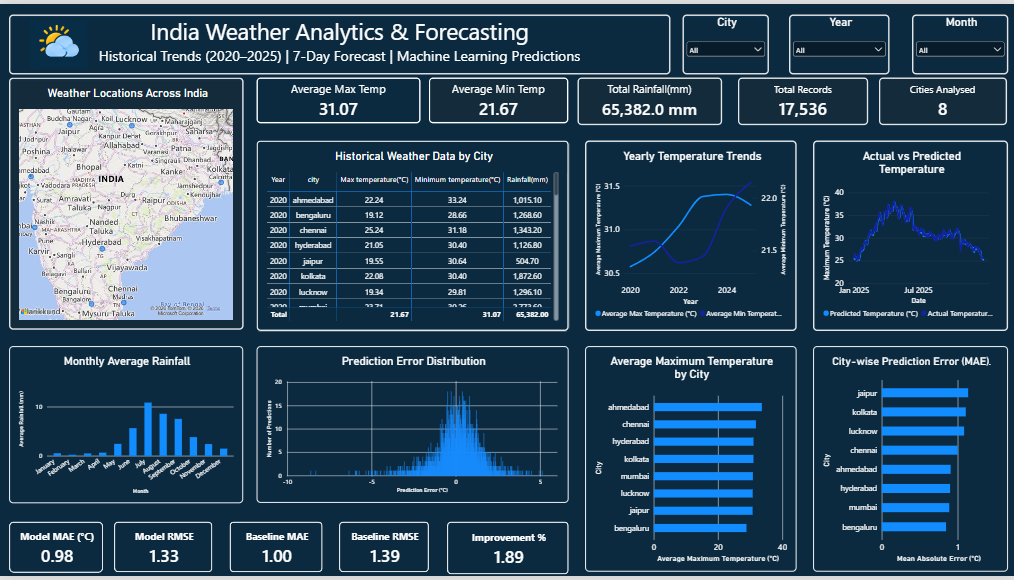

Layout of this report page (visuals, bound fields, positions):
{"tool":"powerbi","page":{"name":"Page 1","canvas":[1920,1080],"ordinal":0},"visuals":[{"type":"textbox","box":[16.7,20,1250,113.3],"z":0},{"type":"cardVisual","fields":{"Data":["india_weather_export.Average Max Temp"]},"box":[483.3,140,310,86.7],"z":1000},{"type":"cardVisual","fields":{"Data":["india_weather_export.Average Min Temp"]},"box":[810,140,263.2,86.8],"z":2000},{"type":"cardVisual","title":"Total ","fields":{"Data":["CityList.Total Rainfall (mm)"]},"box":[1090,140,273.3,90],"z":3000},{"type":"cardVisual","fields":{"Data":["india_weather_export.Total Records"]},"box":[1393.2,140,246,90],"z":4000},{"type":"cardVisual","fields":{"Data":["CityList.Cities Analysed"]},"box":[1661.7,140,241.7,90],"z":5000},{"type":"slicer","title":"City","fields":{"Values":["CityList.City"]},"box":[1291.1,20,163.3,113.3],"z":6000},{"type":"slicer","title":"Year","fields":{"Values":["india_weather_export.time.Variation.Date Hierarchy.Year"]},"box":[1492.2,20,190,113.3],"z":7000},{"type":"slicer","title":"Month","fields":{"Values":["india_weather_export.time.Variation.Date Hierarchy.Month"]},"box":[1723.3,20,182.2,113.3],"z":8000},{"type":"map","title":"Weather Locations Across India","fields":{"X":["CityLocations.Longitude"],"Y":["CityLocations.Latitude"]},"box":[16.7,140,443.3,476.7],"z":9000},{"type":"clusteredBarChart","title":"Average Maximum Temperature by City","fields":{"Category":["india_weather_export.city"],"Y":["Avg(india_weather_export.temperature_2m_max)"]},"box":[1106.7,646.7,400,426.7],"z":10000},{"type":"lineChart","title":"Yearly Temperature Trends","fields":{"Category":["india_weather_export.time.Variation.Date Hierarchy.Year","india_weather_export.time.Variation.Date Hierarchy.Quarter","india_weather_export.time.Variation.Date Hierarchy.Month","india_weather_export.time.Variation.Date Hierarchy.Day"],"Y":["Avg(india_weather_export.temperature_2m_max)"],"Y2":["Avg(india_weather_export.temperature_2m_min)"]},"box":[1106.7,256.7,400,360],"z":11000},{"type":"clusteredColumnChart","title":"Monthly Average Rainfall","fields":{"Category":["india_weather_export.time.Variation.Date Hierarchy.Month"],"Y":["Avg(india_weather_export.precipitation_sum)"]},"box":[17.5,647.5,442.5,297.5],"z":12000},{"type":"tableEx","title":"Historical Weather Data by City","fields":{"Values":["india_weather_export.time.Variation.Date Hierarchy.Year","india_weather_export.city","Avg(india_weather_export.temperature_2m_min)","Avg(india_weather_export.temperature_2m_max)","Sum(india_weather_export.rain_sum)"]},"box":[483.3,256.7,590,360],"z":13000},{"type":"lineChart","title":"Actual vs Predicted Temperature","fields":{"Category":["ml_weather_predictions.time"],"Y":["Avg(ml_weather_predictions.predicted_max_temp)","Avg(ml_weather_predictions.temperature_2m_max)"]},"box":[1535,256.7,368.3,360],"z":14000},{"type":"cardVisual","fields":{"Data":["CityList.Model MAE"]},"box":[16.7,976.7,178,97],"z":15000},{"type":"cardVisual","fields":{"Data":["CityList.Model RMSE"]},"box":[216.7,976.7,186.7,96.7],"z":16000},{"type":"cardVisual","fields":{"Data":["CityList.Baseline MAE"]},"box":[433.3,976.7,176.7,96.7],"z":17000},{"type":"cardVisual","fields":{"Data":["CityList.Baseline RMSE"]},"box":[640,976.7,170,96.7],"z":18000},{"type":"cardVisual","fields":{"Data":["CityList.Model Improvement %"]},"box":[843.3,976.7,230,100],"z":19000},{"type":"clusteredColumnChart","title":"Prediction Error Distribution","fields":{"Category":["ml_weather_predictions.prediction_error"],"Y":["CountNonNull(ml_weather_predictions.prediction_error)"]},"box":[483.3,646.7,590,296.7],"z":20000},{"type":"clusteredBarChart","title":"City-wise Prediction Error (MAE).","fields":{"Category":["ml_weather_predictions.city"],"Y":["Avg(ml_weather_predictions.absolute_error)"]},"box":[1535,646.7,368.3,426.7],"z":21000},{"type":"image","box":[55.7,20,108.6,112.9],"z":22000}]}

Visuals, with their boxes in screenshot pixels (x1, y1, x2, y2), scaled from the page's 1920x1080 canvas onto the 1014x580 screenshot:
textbox: l=9, t=11, r=669, b=72
cardVisual - india_weather_export.Average Max Temp: l=255, t=75, r=419, b=122
cardVisual - india_weather_export.Average Min Temp: l=428, t=75, r=567, b=122
"Total " cardVisual: l=576, t=75, r=720, b=124
cardVisual - india_weather_export.Total Records: l=736, t=75, r=866, b=124
cardVisual - CityList.Cities Analysed: l=878, t=75, r=1005, b=124
"City" slicer: l=682, t=11, r=768, b=72
"Year" slicer: l=788, t=11, r=888, b=72
"Month" slicer: l=910, t=11, r=1006, b=72
"Weather Locations Across India" map: l=9, t=75, r=243, b=331
"Average Maximum Temperature by City" clusteredBarChart: l=584, t=347, r=796, b=576
"Yearly Temperature Trends" lineChart: l=584, t=138, r=796, b=331
"Monthly Average Rainfall" clusteredColumnChart: l=9, t=348, r=243, b=508
"Historical Weather Data by City" tableEx: l=255, t=138, r=567, b=331
"Actual vs Predicted Temperature" lineChart: l=811, t=138, r=1005, b=331
cardVisual - CityList.Model MAE: l=9, t=525, r=103, b=577
cardVisual - CityList.Model RMSE: l=114, t=525, r=213, b=576
cardVisual - CityList.Baseline MAE: l=229, t=525, r=322, b=576
cardVisual - CityList.Baseline RMSE: l=338, t=525, r=428, b=576
cardVisual - CityList.Model Improvement %: l=445, t=525, r=567, b=578
"Prediction Error Distribution" clusteredColumnChart: l=255, t=347, r=567, b=507
"City-wise Prediction Error (MAE)." clusteredBarChart: l=811, t=347, r=1005, b=576
image: l=29, t=11, r=87, b=71
